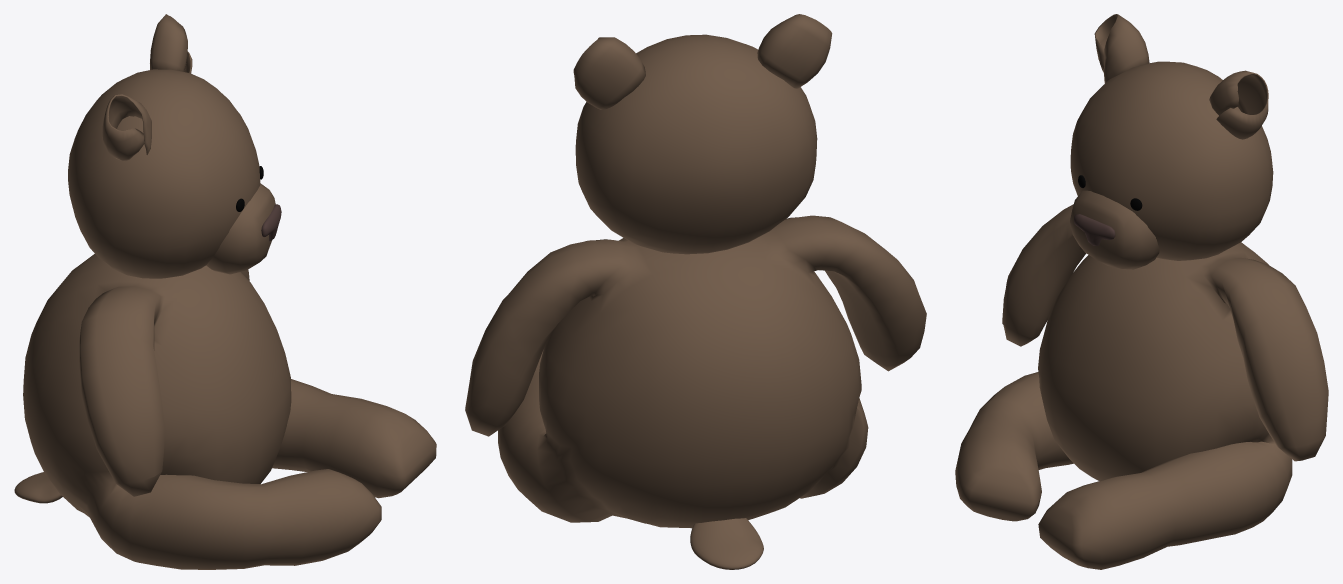
3 views of the same model, side by side, from view 1: azimuth 30°, elevation 25°; view 2: azimuth 150°, elevation 25°; view 3: azimuth 270°, elevation 25° (orthographic). The views are drawn at different scales.
Parts seen in each view (by area): view 1: Bear doll; view 2: Bear doll; view 3: Bear doll, Bear nose.
Boxes of the visible parts, x1,y1,x2,y2 form: Bear doll: (14,14,436,569); Bear doll: (465,14,926,569); Bear doll: (955,14,1328,569); Bear nose: (1074,214,1115,245).
Size of the model in its own units: 1.95 by 2.32 by 1.8.
